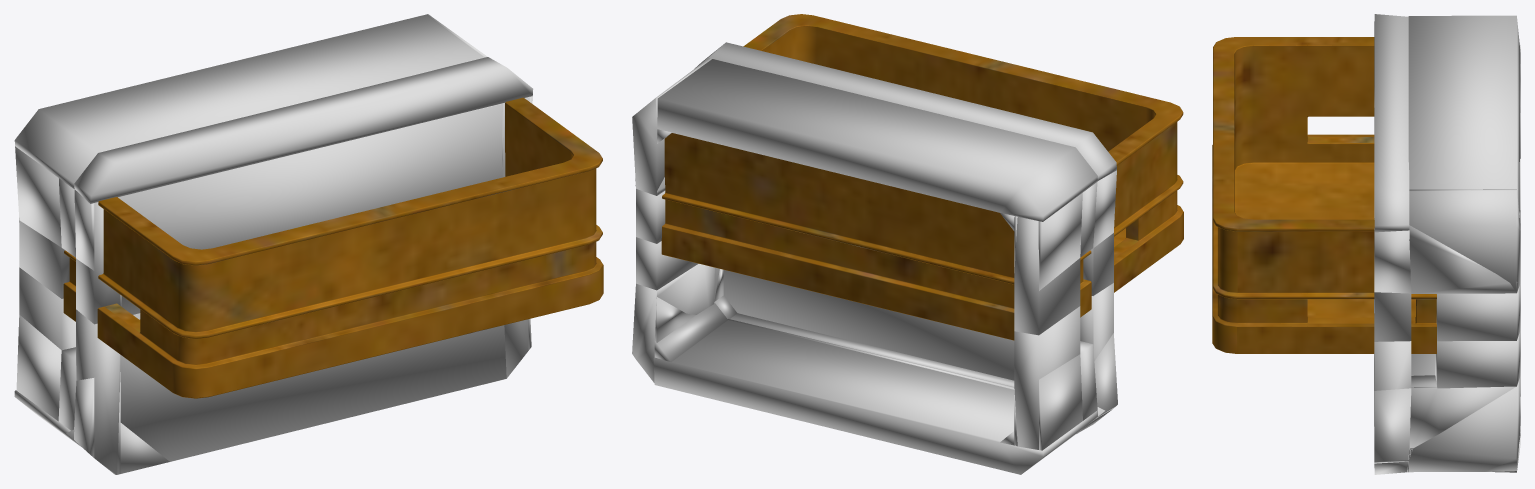
The picture shows the model from 3 angles, left to right: view 1: azimuth 30°, elevation 25°; view 2: azimuth 150°, elevation 25°; view 3: azimuth 270°, elevation 25°; orthographic projection. The views are drawn at different scales.
Visible parts, largest first — view 1: SM_Box_02_ConvexHulls, SM_Box_02; view 2: SM_Box_02_ConvexHulls, SM_Box_02; view 3: SM_Box_02_ConvexHulls, SM_Box_02.
Boxes of the visible parts, x1,y1,x2,y2 form: SM_Box_02_ConvexHulls: (14, 14, 533, 474); SM_Box_02: (63, 97, 603, 398); SM_Box_02_ConvexHulls: (632, 42, 1117, 474); SM_Box_02: (661, 14, 1183, 340); SM_Box_02_ConvexHulls: (1374, 14, 1520, 474); SM_Box_02: (1212, 37, 1436, 353).
Bounding box in the file's own units: 0.8452 × 0.5571 × 0.5426.
